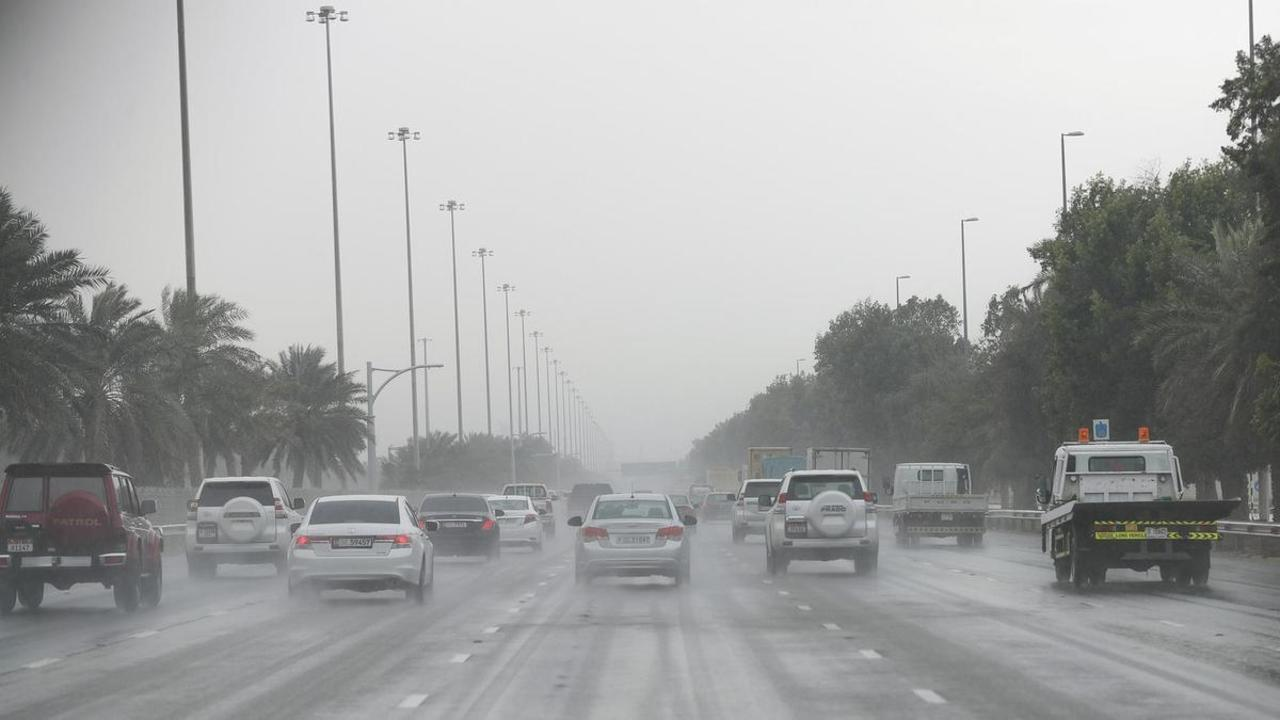car: (3, 459, 173, 618), (289, 493, 437, 603), (180, 471, 299, 575), (768, 479, 882, 573), (576, 494, 691, 585), (415, 493, 499, 558), (729, 474, 787, 531), (488, 496, 544, 550), (698, 486, 735, 521)
truck: (1038, 437, 1242, 584), (887, 462, 990, 545)
